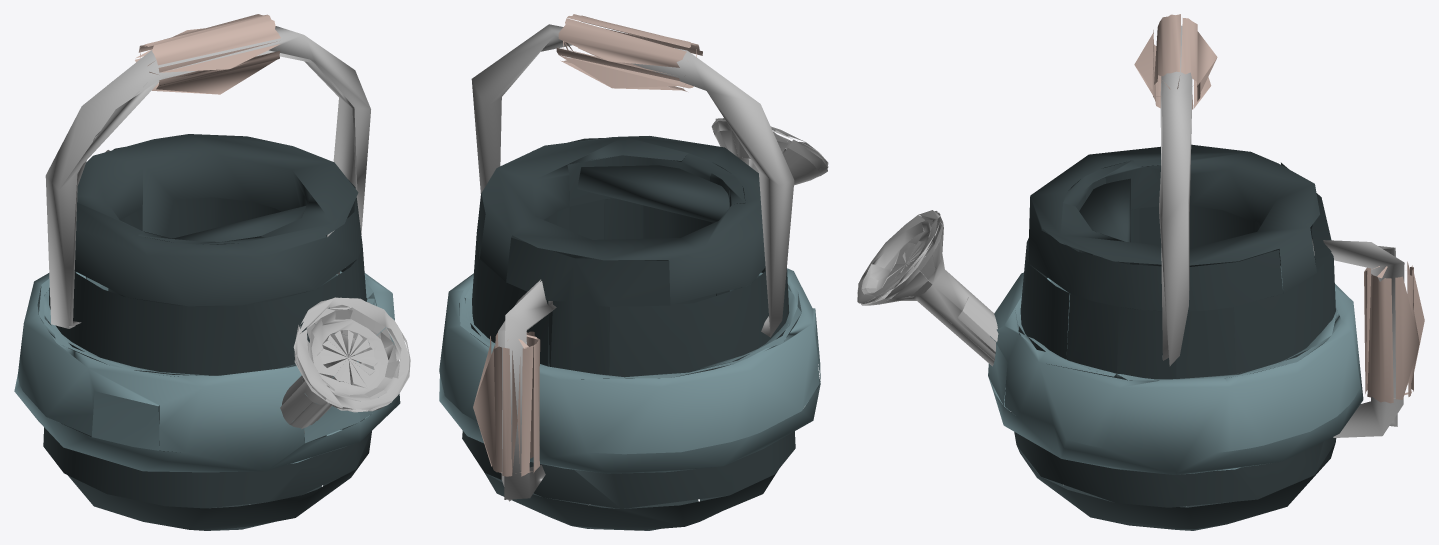
File: watering_can.glb
3 views of the same model, side by side, from view 1: azimuth 30°, elevation 25°; view 2: azimuth 150°, elevation 25°; view 3: azimuth 270°, elevation 25° (orthographic). The views are drawn at different scales.
Parts seen in each view (by area): view 1: watering_can; view 2: watering_can; view 3: watering_can.
Part boxes in pixels (left/top/right/bottom): watering_can: left=14, top=14, right=410, bottom=530; watering_can: left=439, top=14, right=828, bottom=530; watering_can: left=857, top=14, right=1424, bottom=530.
Bounding box in the file's own units: 1.29 × 1.68 × 1.95.
